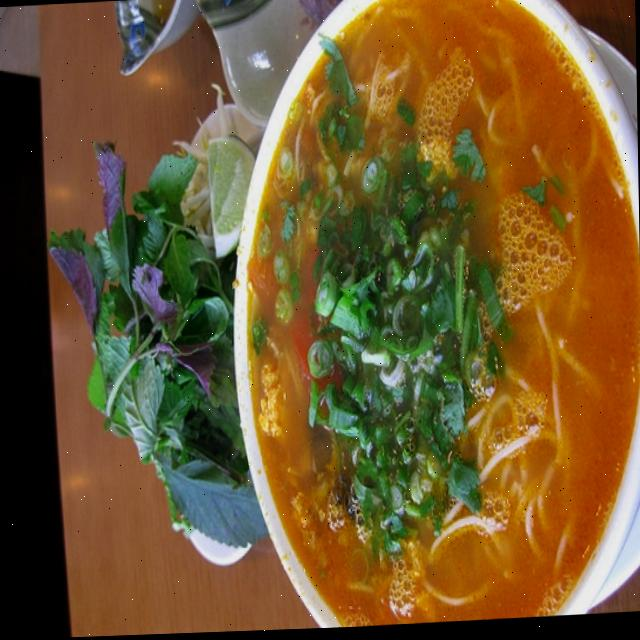面条主食: (190, 0, 640, 634)
